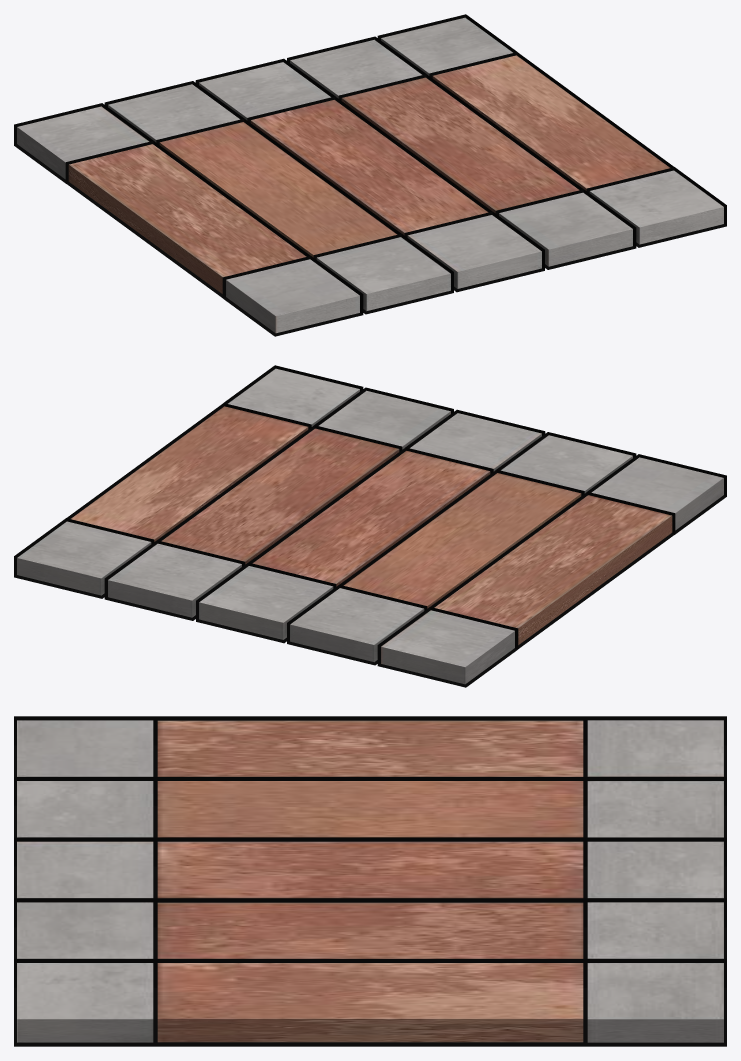
The picture shows the model from 3 angles, top to bottom: view 1: azimuth 30°, elevation 25°; view 2: azimuth 150°, elevation 25°; view 3: azimuth 270°, elevation 25°; orthographic projection. The views are drawn at different scales.
Parts seen in each view (by area): view 1: pavement2; view 2: pavement2; view 3: pavement2.
Part boxes in pixels (x1,y1,x2,y2): pavement2: [14, 14, 726, 336]; pavement2: [14, 365, 726, 687]; pavement2: [14, 716, 726, 1046].
Size of what is drawn, in the model's own units: 2.01 by 0.0901 by 2.01.
2 materials, 1 textured.
